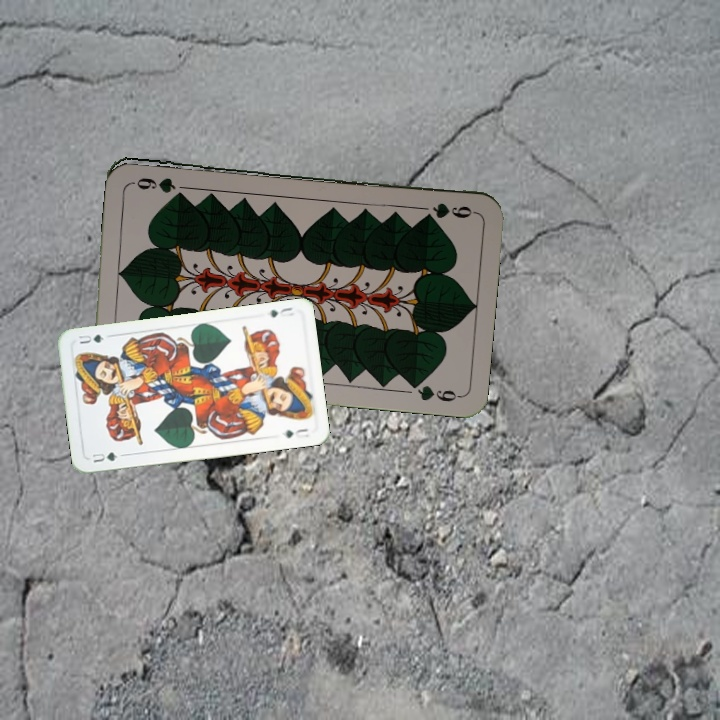G9: (428, 199, 478, 221)
GU: (88, 448, 120, 465), (265, 303, 295, 320)
